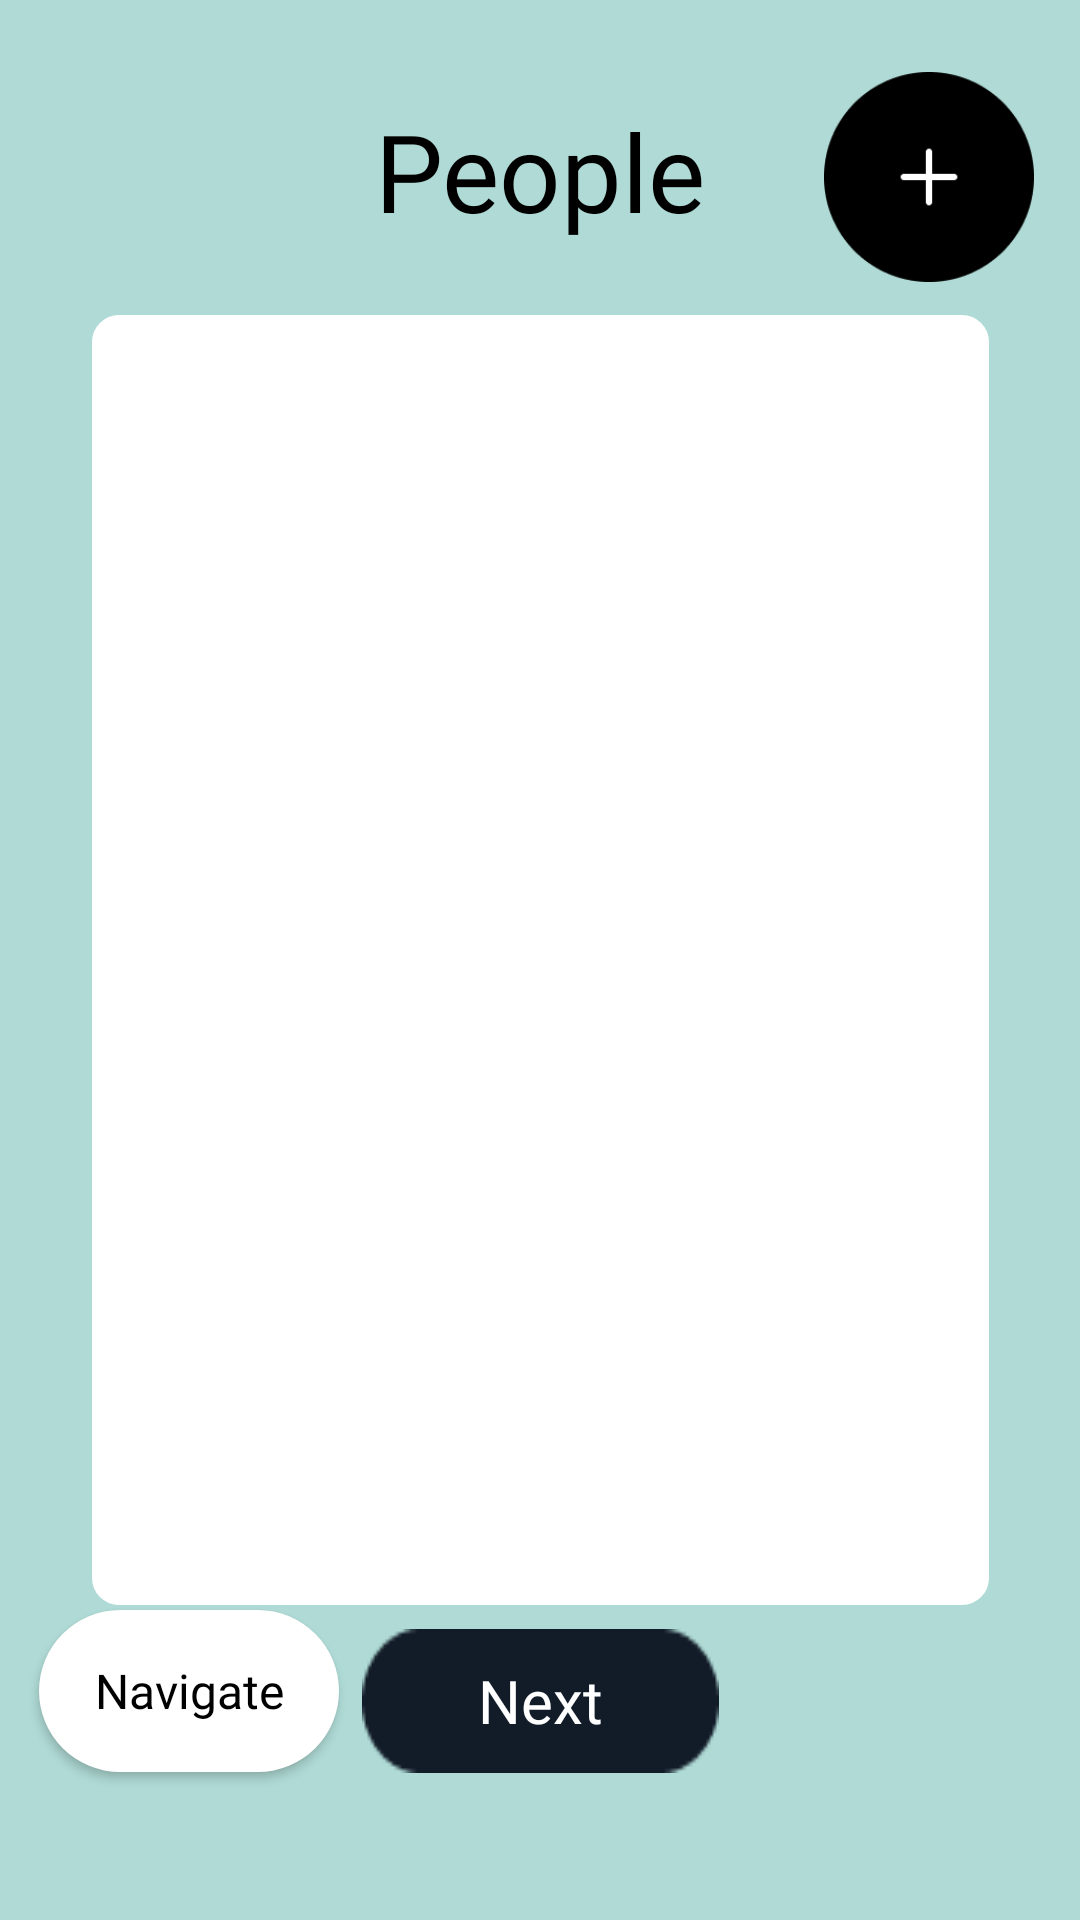

Locate icon controls on the screen. Image size 1080×1920, boxes as (x1, y1, x2, y2).
plus: (824, 72, 1034, 282)
